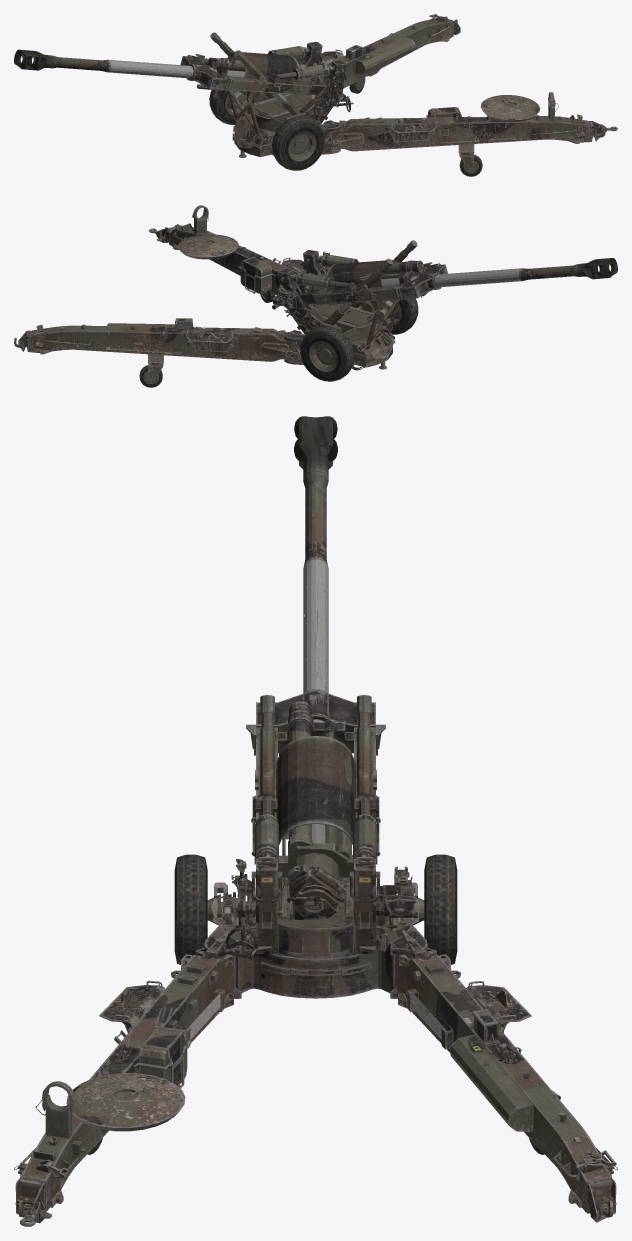
3 views of the same model, one above another, from view 1: azimuth 30°, elevation 25°; view 2: azimuth 150°, elevation 25°; view 3: azimuth 270°, elevation 25° (orthographic). The views are drawn at different scales.
Parts seen in each view (by area): view 1: trailR, body, cradle, trailL, barrel, w0R, w0L; view 2: body, trailL, trailR, cradle, barrel, w0L, w0R; view 3: body, trailR, cradle, trailL, barrel, w0L, w0R.
Part boxes in pixels (x1,y1,x2,y2): trailR: (324, 95, 617, 176); body: (182, 32, 554, 157); cradle: (113, 32, 330, 123); trailL: (308, 14, 460, 98); barrel: (14, 49, 244, 88); w0R: (272, 116, 324, 170); w0L: (209, 90, 251, 124); body: (192, 205, 445, 370); trailL: (14, 313, 300, 387); trailR: (148, 208, 317, 307); cradle: (294, 240, 515, 333); barrel: (382, 258, 617, 293); w0L: (300, 326, 354, 381); w0R: (382, 298, 418, 334); body: (43, 695, 450, 1101); trailR: (14, 924, 272, 1226); cradle: (254, 560, 377, 919); trailL: (359, 925, 617, 1222); barrel: (294, 416, 337, 842); w0L: (424, 854, 457, 964); w0R: (174, 854, 207, 964).
Bounding box in the file's own units: 11.61 × 3.74 × 5.78.
Materials: 1 (1 with a texture image).
